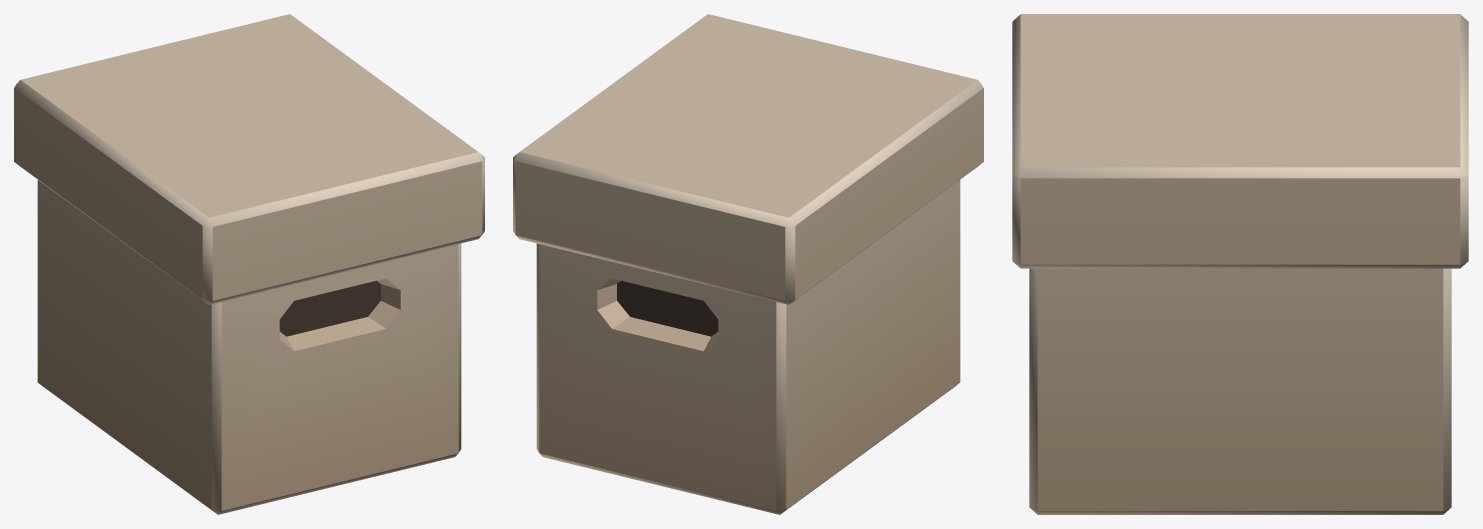
Rendered from comicbox_closed.glb.
The picture shows the model from 3 angles, left to right: view 1: azimuth 30°, elevation 25°; view 2: azimuth 150°, elevation 25°; view 3: azimuth 270°, elevation 25°; orthographic projection. The views are drawn at different scales.
Parts seen in each view (by area): view 1: comicbox_closed; view 2: comicbox_closed; view 3: comicbox_closed.
Boxes of the visible parts, x1,y1,x2,y2 form: comicbox_closed: (14, 14, 484, 514); comicbox_closed: (513, 14, 983, 514); comicbox_closed: (1012, 14, 1468, 514).
Size of the model in its own units: 0.7188 by 0.7461 by 0.8641.
1 material, 1 textured.
